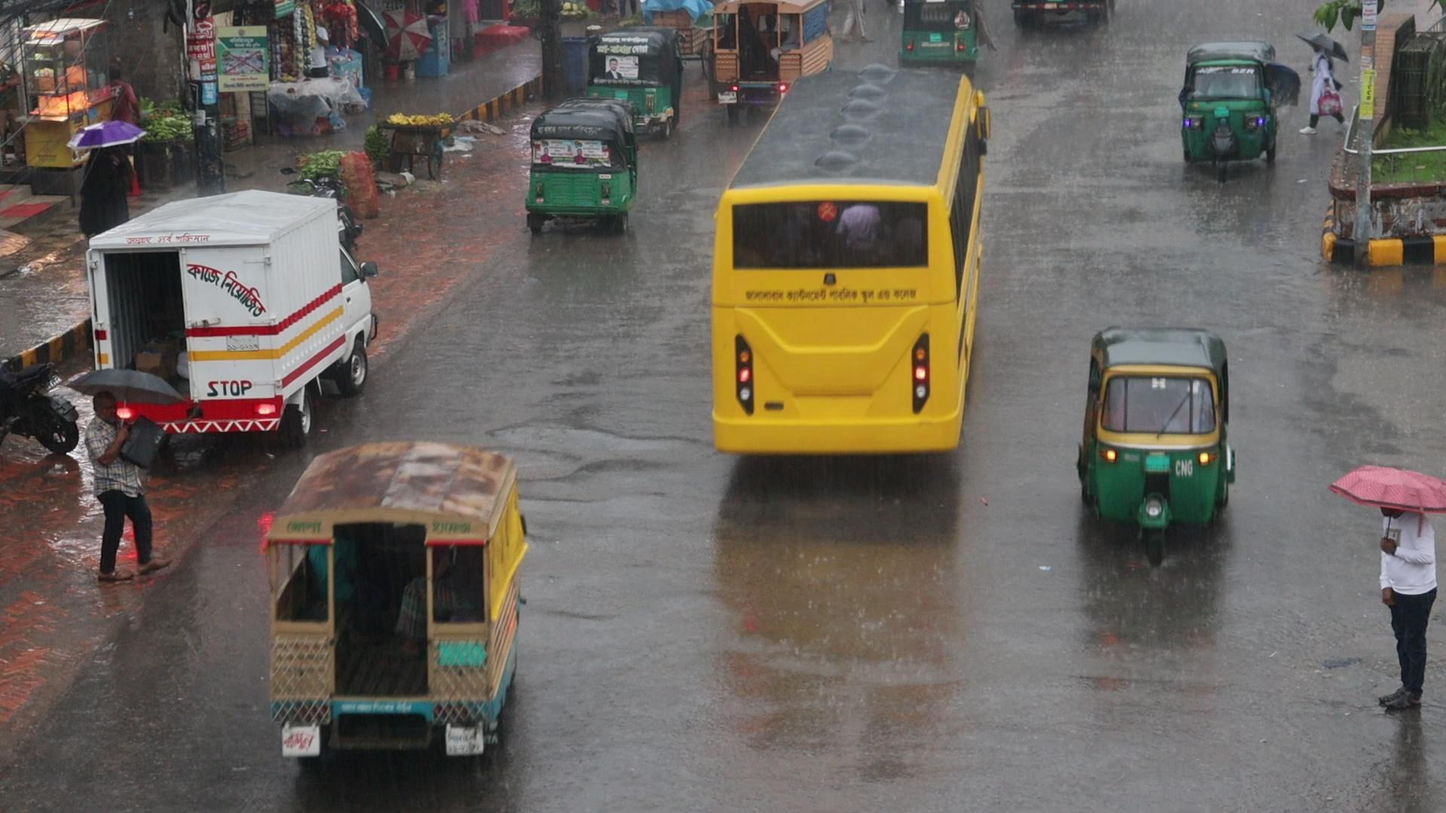Bus: (708, 60, 991, 463)
Truck: (265, 435, 534, 776)
